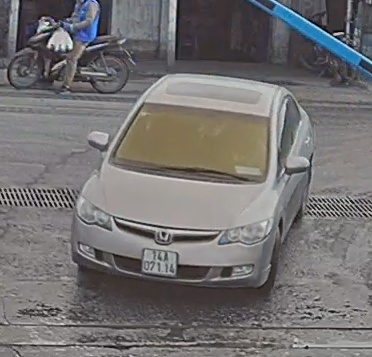vehicle plate: (142, 246, 178, 280)
